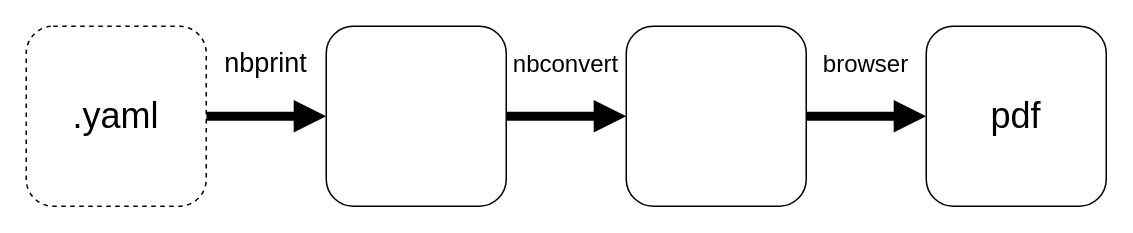
Image size: 1133x233. Some labels were removed from this diagram. The centre of each missing label's shape, as x and y in pixels:
".ipynb" goes at (x=415, y=115).
"html" goes at (x=715, y=115).
